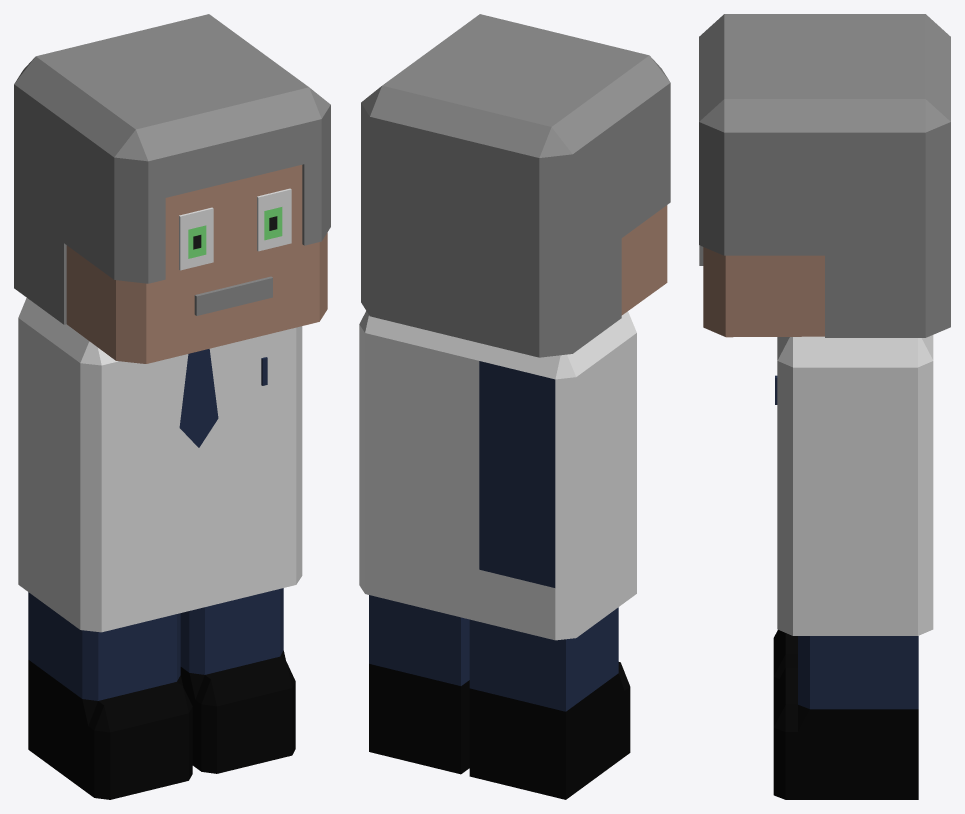
The model's file is polyDoc.fbx.
3 views of the same model, side by side, from view 1: azimuth 30°, elevation 25°; view 2: azimuth 150°, elevation 25°; view 3: azimuth 270°, elevation 25° (orthographic). The views are drawn at different scales.
Visible parts, largest first — view 1: polyBase, polyBody, polyLeg_Right, polyLeg_Left, polyEyes; view 2: polyBase, polyBody, polyLeg_Right, polyLeg_Left; view 3: polyBase, polyBody, polyLeg_Left, polyLeg_Right.
Part boxes in pixels (bbox=[...]): polyBase: bbox=[14, 14, 330, 363]; polyBody: bbox=[18, 298, 302, 632]; polyLeg_Right: bbox=[28, 592, 192, 799]; polyLeg_Left: bbox=[180, 588, 295, 773]; polyEyes: bbox=[179, 188, 291, 270]; polyBase: bbox=[361, 14, 670, 357]; polyBody: bbox=[359, 311, 636, 640]; polyLeg_Right: bbox=[469, 607, 630, 799]; polyLeg_Left: bbox=[369, 595, 469, 774]; polyBase: bbox=[699, 14, 950, 337]; polyBody: bbox=[775, 335, 933, 635]; polyLeg_Left: bbox=[773, 636, 918, 799]; polyLeg_Right: bbox=[773, 630, 797, 689].
Bounding box in the file's own units: 16.92 × 50.07 × 16.5.
